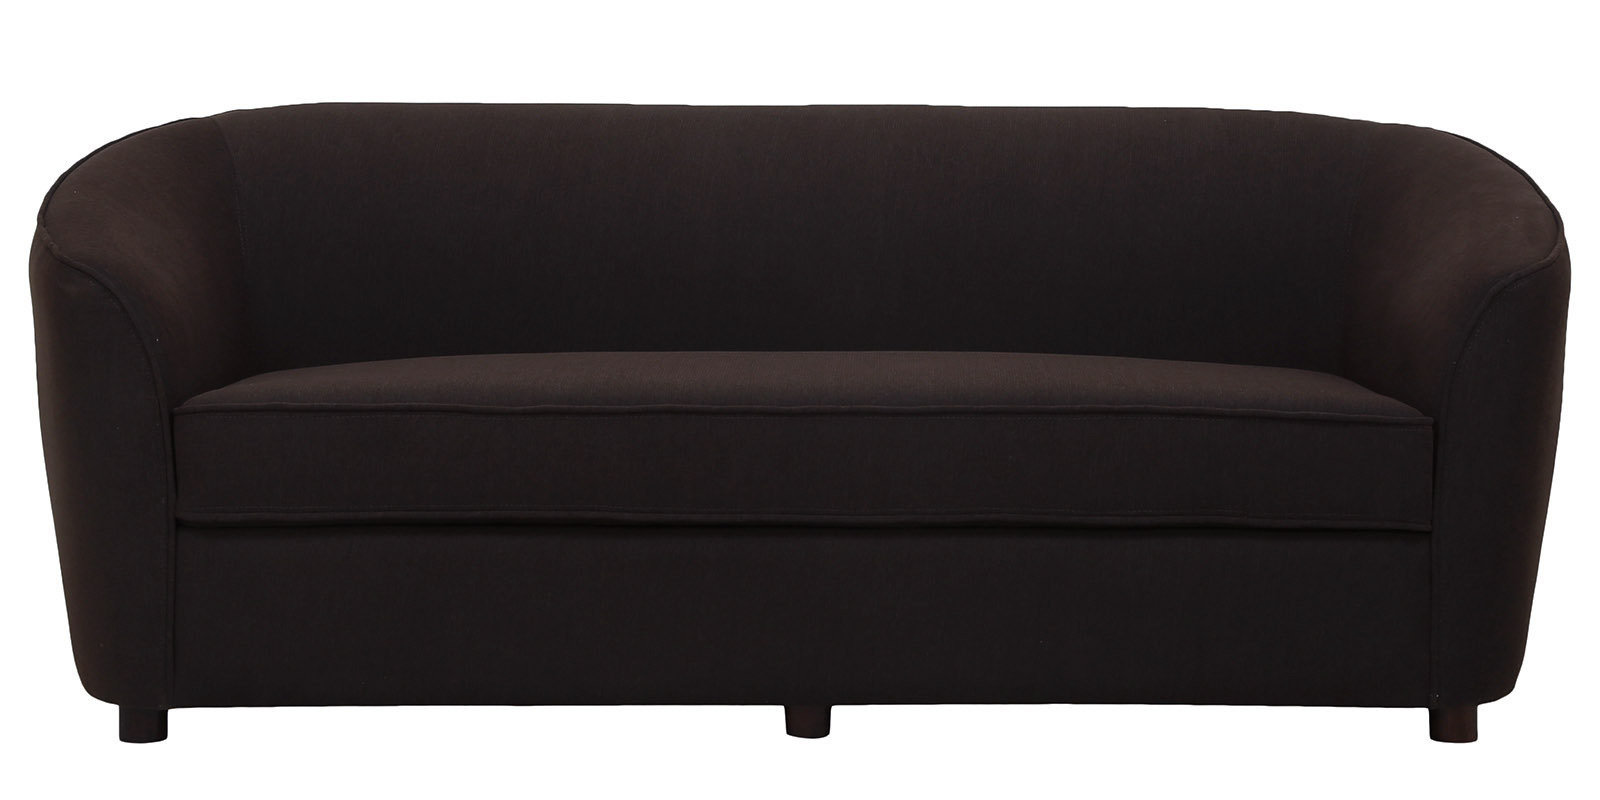Mamore Three Seater Sofa in Chestnut Brown Color by CasaCraft: (28, 101, 1574, 742)
